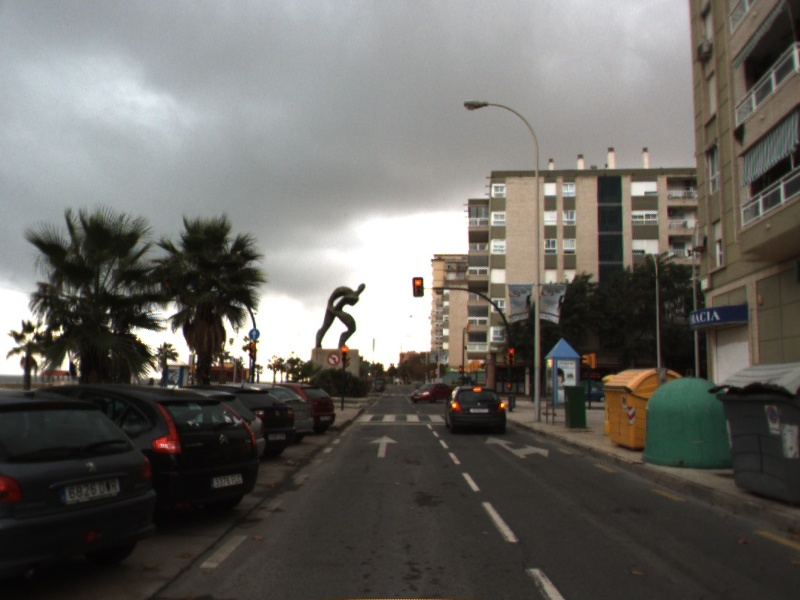STRAIGHT: (368, 434, 400, 458)
STRAIGHT_RIGHT: (483, 434, 550, 460)
